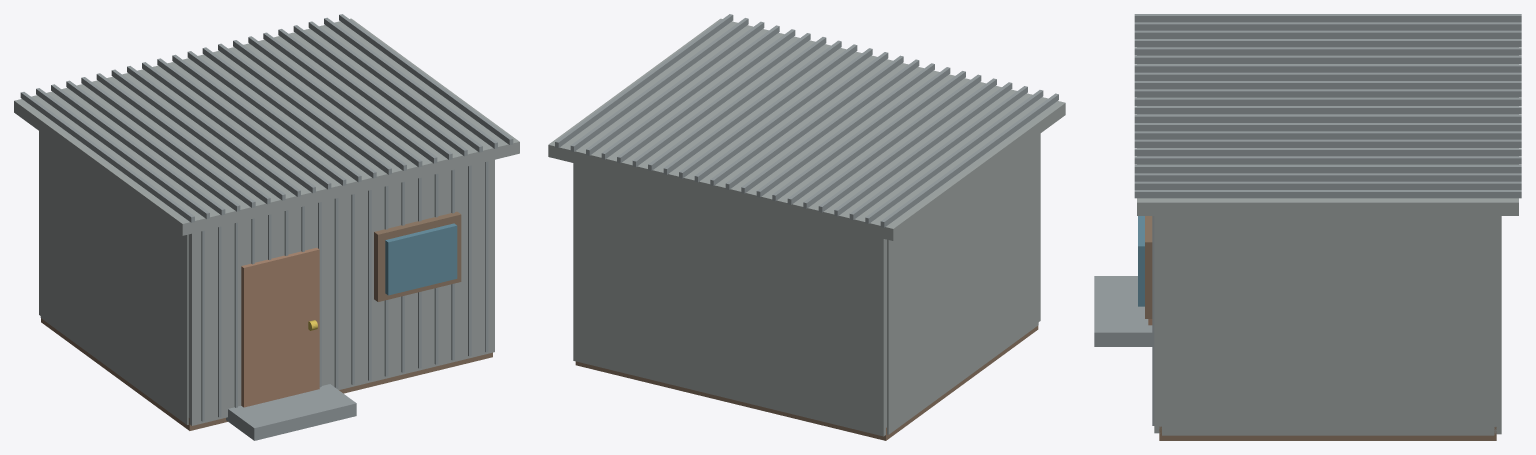
File: soweto_shack.glb
The picture shows the model from 3 angles, left to right: view 1: azimuth 30°, elevation 25°; view 2: azimuth 150°, elevation 25°; view 3: azimuth 270°, elevation 25°; orthographic projection. The views are drawn at different scales.
Parts seen in each view (by area): view 1: front_wall, roof_slab, side_wall_-1.95, door, door_step, window_glass, window_frame, shack_base, roof_corrugation_16, roof_corrugation_12, roof_corrugation_0, roof_corrugation_2 (+30 smaller); view 2: back_wall, roof_slab, side_wall_-1.95, shack_base, roof_corrugation_3, roof_corrugation_8, roof_corrugation_9, roof_corrugation_17, roof_corrugation_18, roof_corrugation_1, roof_corrugation_4, roof_corrugation_12 (+15 smaller); view 3: side_wall_1.95, roof_slab, door_step, roof_corrugation_1, roof_corrugation_6, roof_corrugation_9, roof_corrugation_14, roof_corrugation_19, roof_corrugation_0, roof_corrugation_2, roof_corrugation_3, roof_corrugation_4 (+19 smaller).
Part boxes in pixels (<box>): front_wall: <box>188,160,494,425</box>; roof_slab: <box>14,18,519,235</box>; side_wall_-1.95: <box>40,132,188,424</box>; door: <box>241,247,319,407</box>; door_step: <box>226,384,356,440</box>; window_glass: <box>385,223,457,295</box>; window_frame: <box>374,211,461,301</box>; shack_base: <box>41,318,492,430</box>; roof_corrugation_16: <box>263,32,437,163</box>; roof_corrugation_12: <box>202,47,376,178</box>; roof_corrugation_0: <box>20,92,194,222</box>; roof_corrugation_2: <box>51,84,225,215</box>; back_wall: <box>573,163,886,436</box>; roof_slab: <box>548,18,1065,240</box>; side_wall_-1.95: <box>887,135,1038,434</box>; shack_base: <box>575,325,1038,440</box>; roof_corrugation_3: <box>834,82,1012,216</box>; roof_corrugation_8: <box>756,63,934,197</box>; roof_corrugation_9: <box>741,59,919,193</box>; roof_corrugation_17: <box>617,29,795,163</box>; roof_corrugation_18: <box>601,25,779,159</box>; roof_corrugation_1: <box>865,90,1043,223</box>; roof_corrugation_4: <box>818,78,996,212</box>; roof_corrugation_12: <box>694,48,872,182</box>; side_wall_1.95: <box>1162,216,1494,435</box>; roof_slab: <box>1137,47,1518,215</box>; door_step: <box>1094,276,1152,346</box>; roof_corrugation_1: <box>1134,22,1521,30</box>; roof_corrugation_6: <box>1134,64,1521,72</box>; roof_corrugation_9: <box>1134,89,1521,97</box>; roof_corrugation_14: <box>1134,131,1521,139</box>; roof_corrugation_19: <box>1134,173,1521,181</box>; roof_corrugation_0: <box>1134,14,1521,22</box>; roof_corrugation_2: <box>1134,30,1521,38</box>; roof_corrugation_3: <box>1134,39,1521,47</box>; roof_corrugation_4: <box>1134,47,1521,55</box>.
Size of the model in its own units: 4.45 by 2.83 by 4.31.
